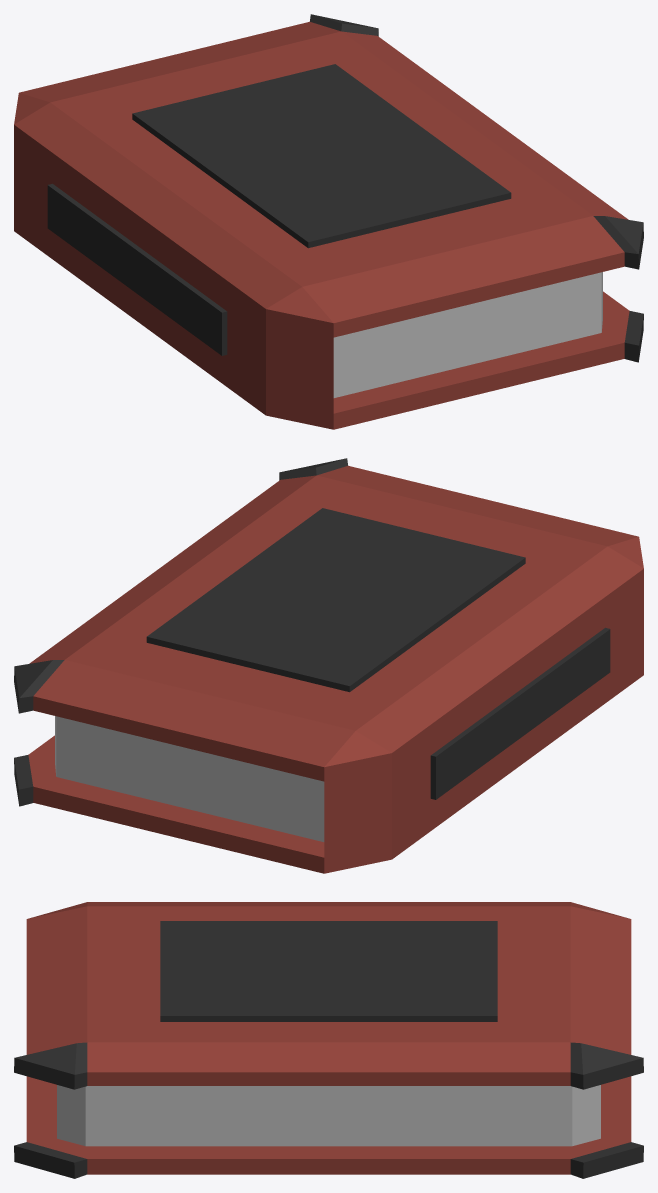
The model's file is Book_2_Red.fbx.
3 renders of one model, top to bottom at view 1: azimuth 30°, elevation 25°; view 2: azimuth 150°, elevation 25°; view 3: azimuth 270°, elevation 25°, orthographic. The views are drawn at different scales.
Visible parts, largest first — view 1: Book_2_Red_Part_1, Book_2_Red_Part_3, Book_2_Red_Part_2; view 2: Book_2_Red_Part_1, Book_2_Red_Part_3, Book_2_Red_Part_2; view 3: Book_2_Red_Part_1, Book_2_Red_Part_3, Book_2_Red_Part_2.
Part boxes in pixels (bbox=[...]): Book_2_Red_Part_1: bbox=[14, 21, 629, 429]; Book_2_Red_Part_3: bbox=[47, 14, 643, 362]; Book_2_Red_Part_2: bbox=[333, 272, 602, 397]; Book_2_Red_Part_1: bbox=[28, 465, 643, 873]; Book_2_Red_Part_3: bbox=[14, 458, 610, 806]; Book_2_Red_Part_2: bbox=[55, 716, 324, 841]; Book_2_Red_Part_1: bbox=[26, 902, 631, 1174]; Book_2_Red_Part_3: bbox=[14, 921, 643, 1178]; Book_2_Red_Part_2: bbox=[57, 1085, 600, 1146].
Size of the model in its own units: 20.71 by 7.44 by 31.27.
